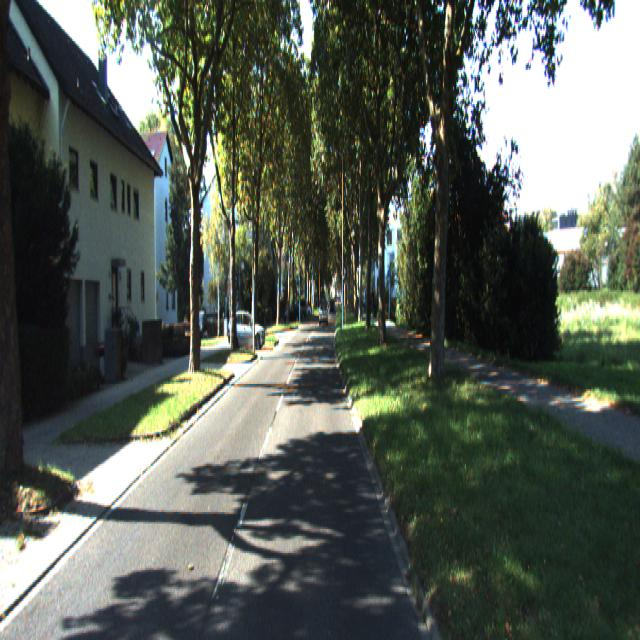Car: (226, 313, 266, 353)
